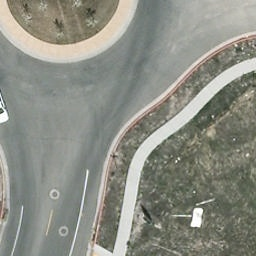car: (0, 86, 11, 125)
